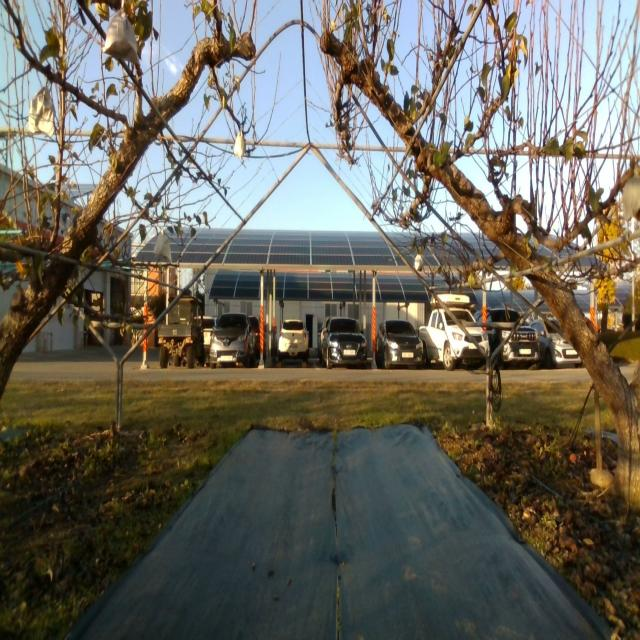pearbags: (102, 8, 140, 66), (29, 88, 56, 136), (622, 175, 640, 224), (154, 233, 172, 264), (233, 132, 246, 158)
